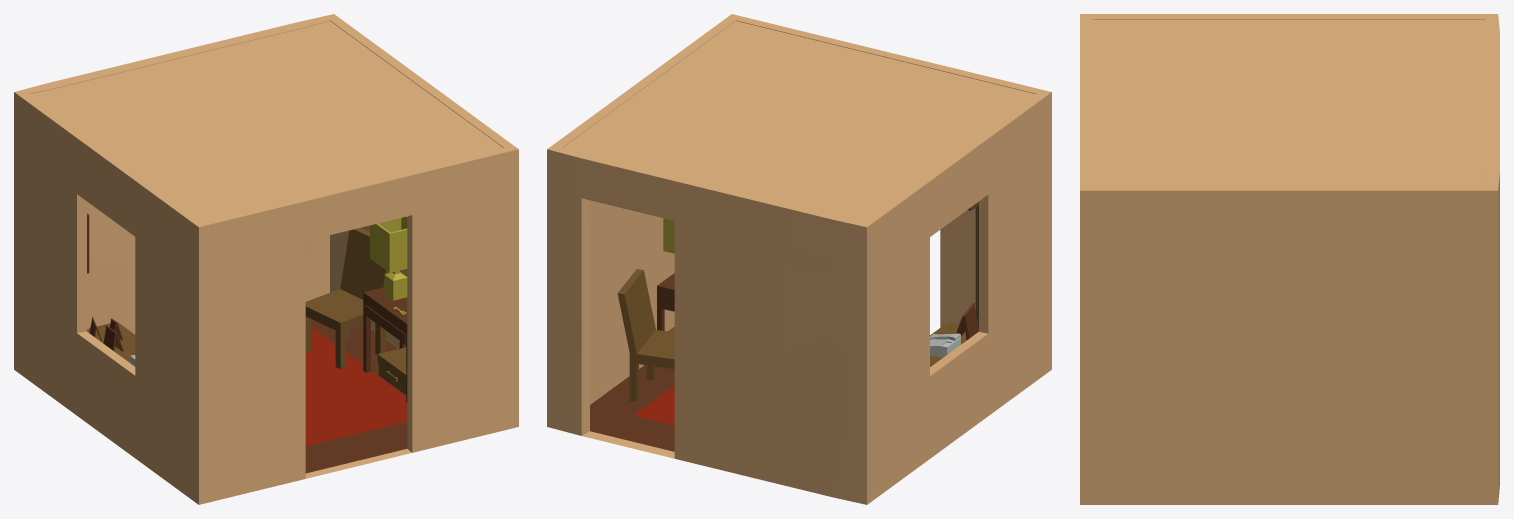
Rendered from S_Hall.glb.
3 renders of one model, left to right at view 1: azimuth 30°, elevation 25°; view 2: azimuth 150°, elevation 25°; view 3: azimuth 270°, elevation 25°, orthographic. The views are drawn at different scales.
Parts seen in each view (by area): view 1: S_Hall.001, S_Carpet.001, S_Chair.001, S_Lamp.001, S_Table.001, Cube, Cube.004; view 2: S_Hall.001, S_Chair.001, S_Carpet.001, S_Table.001, Cube.024; view 3: S_Hall.001.
Part boxes in pixels (x1,y1,x2,y2): S_Hall.001: [14, 14, 518, 504]; S_Carpet.001: [305, 327, 407, 446]; S_Chair.001: [305, 227, 389, 369]; S_Lamp.001: [370, 216, 407, 300]; S_Table.001: [363, 287, 407, 402]; Cube: [377, 347, 406, 394]; Cube.004: [87, 322, 135, 362]; S_Hall.001: [547, 14, 1051, 504]; S_Chair.001: [617, 269, 674, 401]; S_Carpet.001: [633, 385, 674, 425]; S_Table.001: [657, 273, 674, 330]; Cube.024: [930, 333, 960, 357]; S_Hall.001: [1080, 14, 1499, 504].
Bounding box in the file's own units: 3.19 × 2.65 × 3.2.
